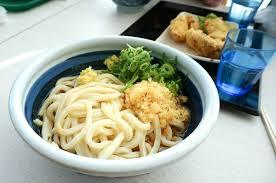bukkake: (21, 44, 209, 173)
